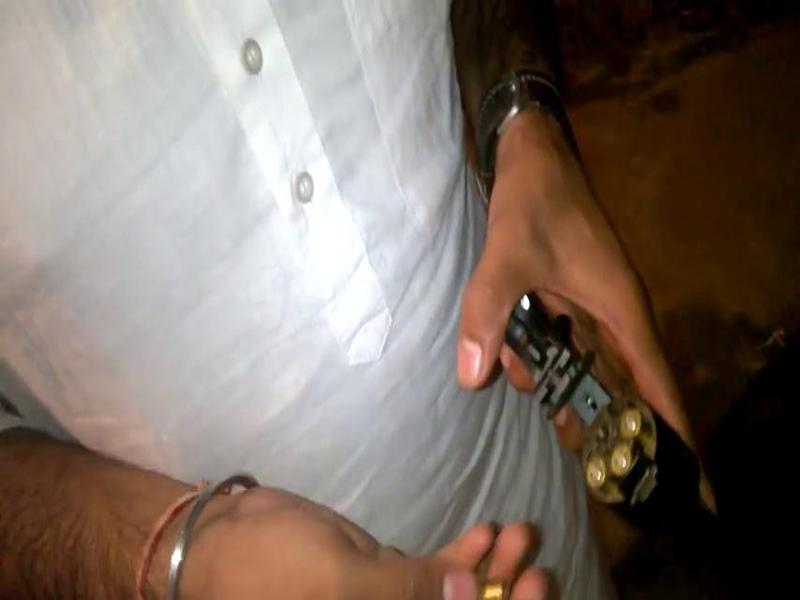Revolver: (488, 270, 737, 595)
